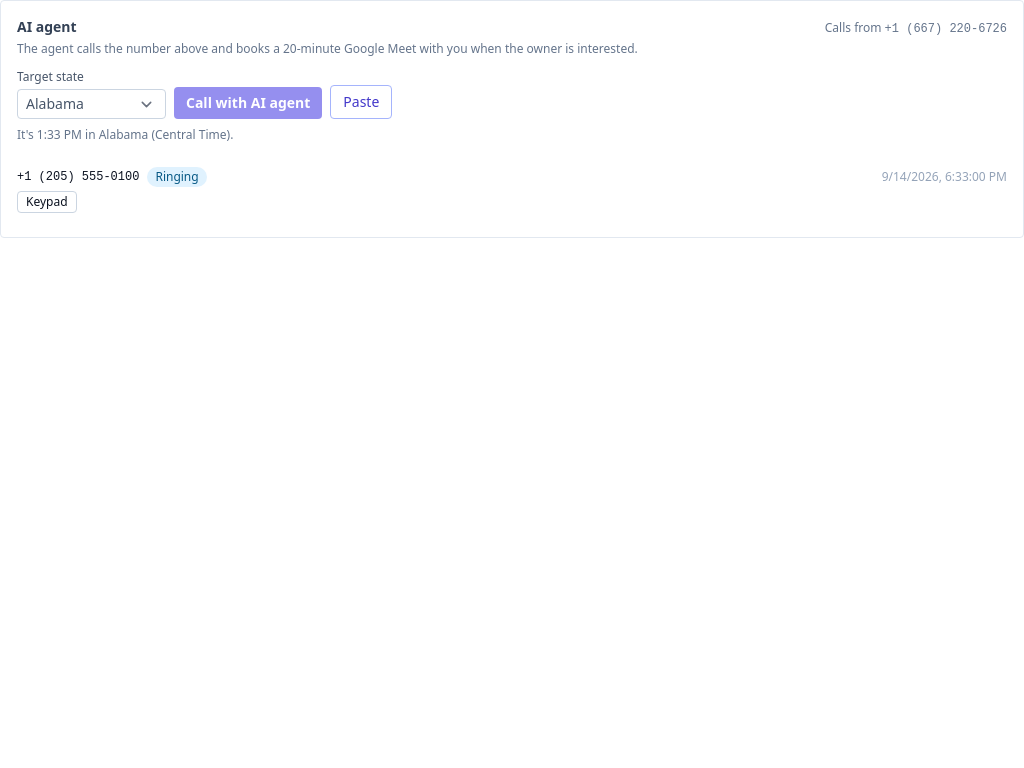
AiAgentPanel › shows why a keypress could not be relayed
Click the button "Keypad". click: [47, 202]
box: [17,191,77,213]
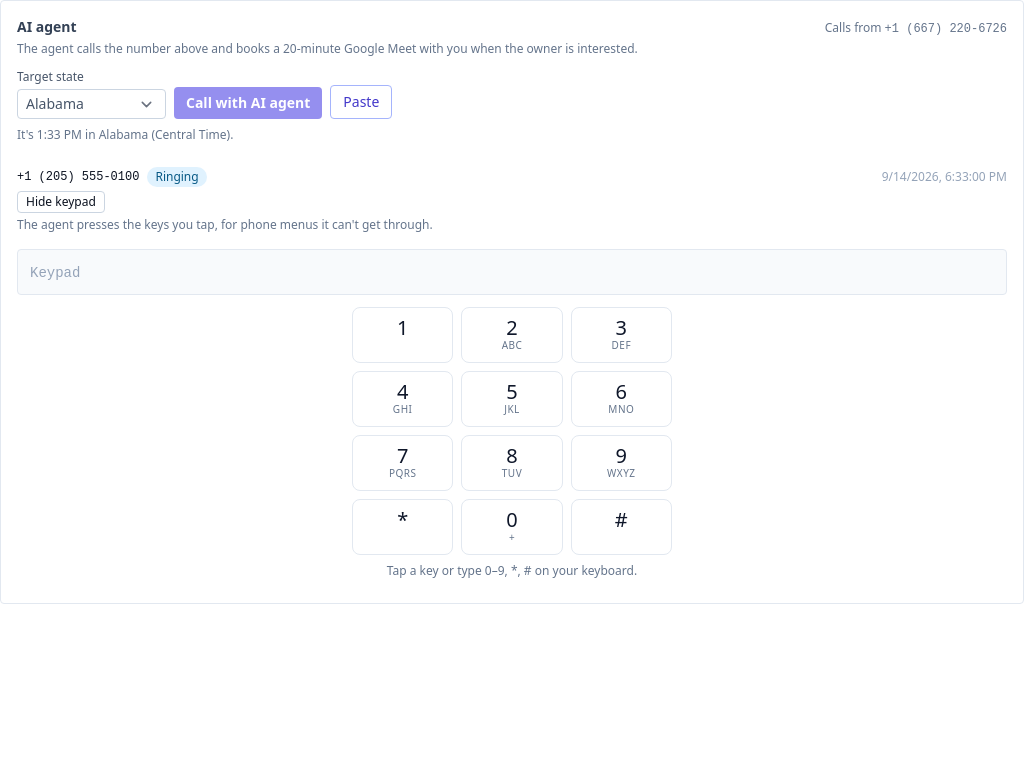
Click the button named "Send #". click: [621, 527]
box: [571,499,672,555]
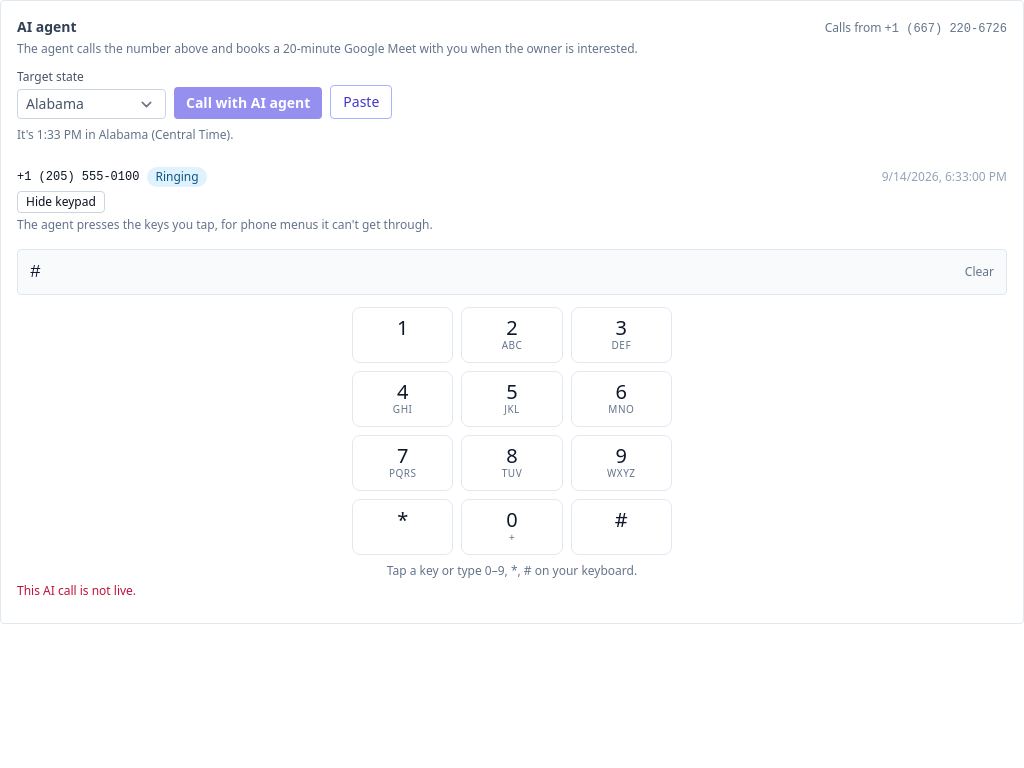
Now the text "This AI call is not live." is shown, box [17,582,136,599]
